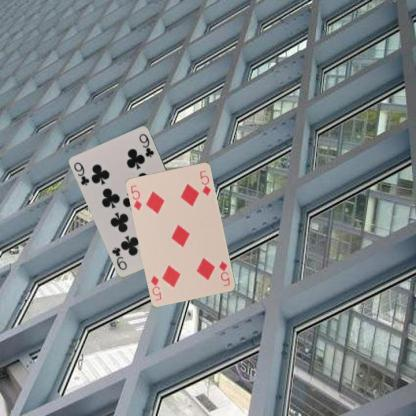5d: (128, 182, 144, 212), (217, 258, 231, 288)
9c: (72, 160, 90, 187)
